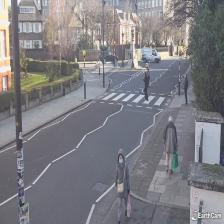person: (114, 149, 131, 224), (162, 117, 178, 174), (183, 73, 188, 105)
